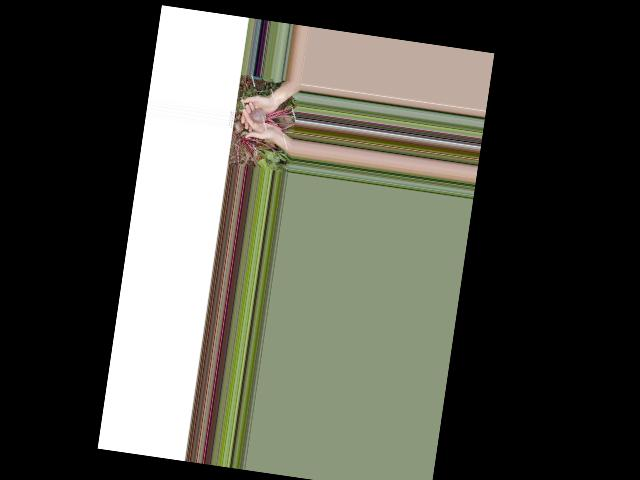beet: (247, 98, 296, 132)
